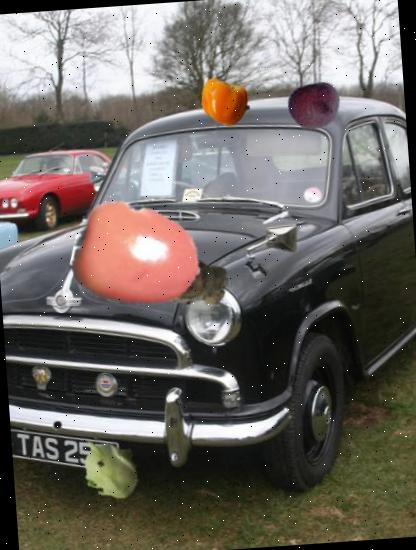Ginger: (124, 222, 234, 332)
Kaki: (68, 186, 207, 326)
Kohlrabi: (72, 430, 148, 506)
Pepper: (198, 75, 252, 129)
Salak: (286, 78, 342, 135)
